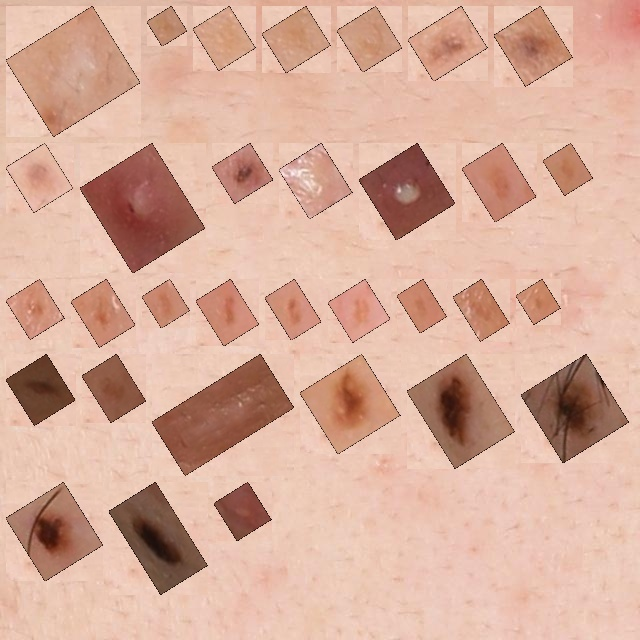hypertrophic_scar: (17, 17, 129, 125), (163, 365, 283, 464), (290, 154, 341, 208)
melasma: (311, 365, 389, 443), (473, 154, 525, 211), (273, 17, 319, 62), (82, 290, 124, 336), (93, 365, 135, 411), (348, 17, 391, 61), (207, 290, 248, 335), (204, 17, 244, 59), (339, 290, 379, 331), (17, 290, 53, 328), (464, 290, 498, 330), (276, 290, 310, 329), (408, 290, 436, 322), (554, 154, 582, 184), (153, 290, 179, 317), (527, 290, 549, 313), (158, 17, 176, 35)
nevus: (418, 365, 504, 457), (532, 365, 618, 452), (120, 493, 197, 583), (17, 493, 92, 570), (505, 17, 561, 75), (419, 17, 476, 70), (17, 365, 64, 414), (17, 154, 62, 201), (223, 154, 262, 192)
pustule: (91, 154, 194, 262), (370, 154, 444, 229), (225, 493, 260, 529)
